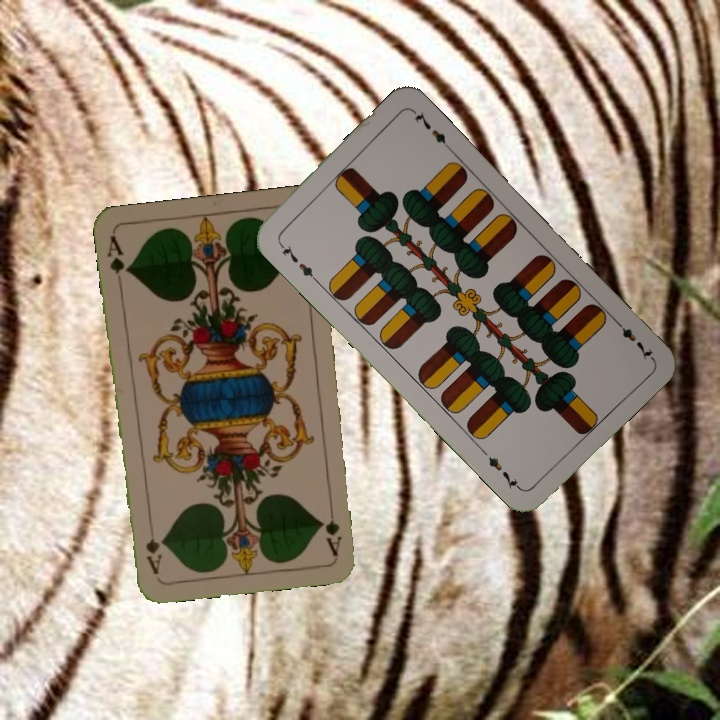E7: (610, 315, 656, 363), (274, 237, 320, 284)
GA: (103, 231, 132, 290), (321, 498, 344, 558)
